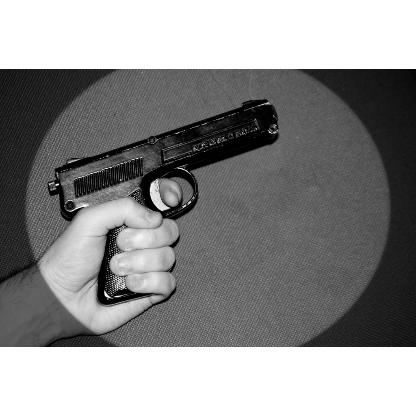gun: (46, 96, 280, 306)
